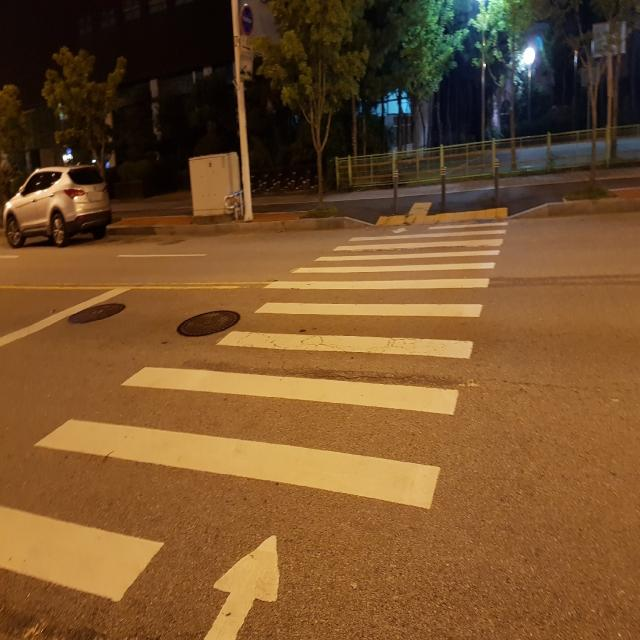횡단보도: (1, 217, 509, 640)
